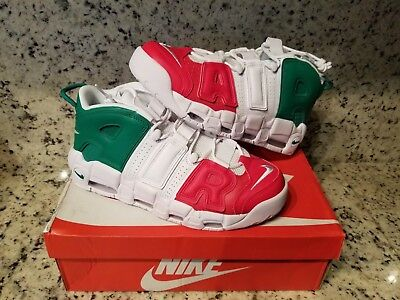Nike Air Uptempo '96 Italy: (58, 72, 291, 233), (123, 33, 336, 158)
